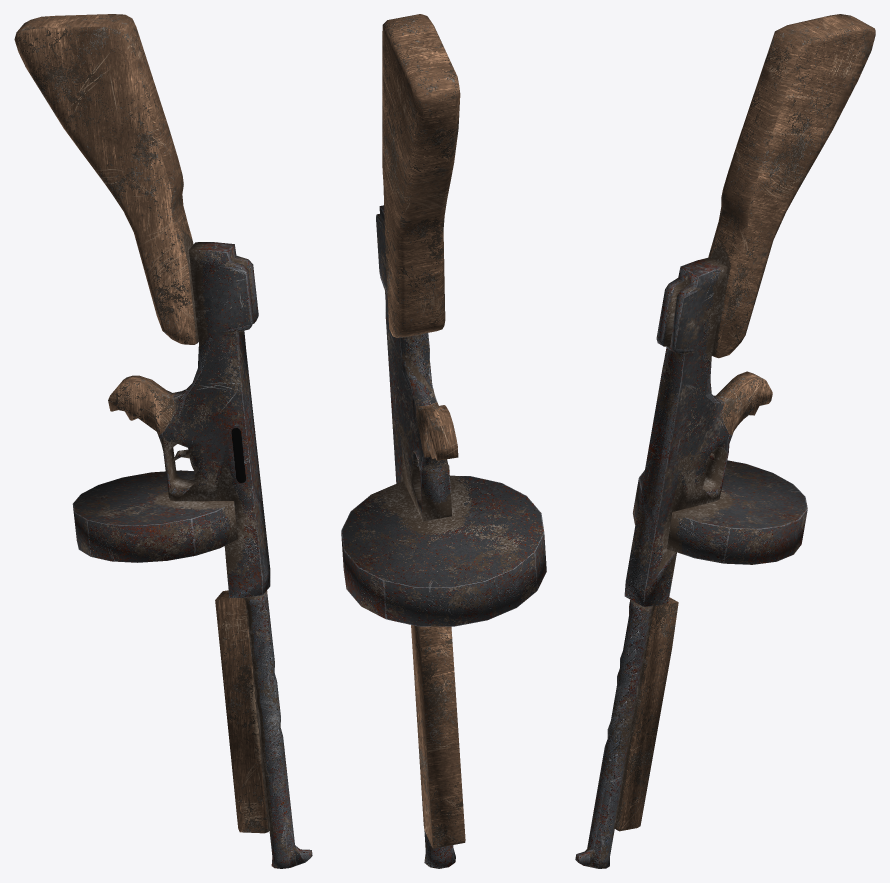
File: Anim_idle_ametralladora_objetos.0055.obj
3 renders of one model, left to right at view 1: azimuth 30°, elevation 25°; view 2: azimuth 150°, elevation 25°; view 3: azimuth 270°, elevation 25°, orthographic. The views are drawn at different scales.
Visible parts, largest first — view 1: Ametralladora1; view 2: Ametralladora1; view 3: Ametralladora1.
Part boxes in pixels (bbox=[...]): Ametralladora1: bbox=[14, 14, 312, 868]; Ametralladora1: bbox=[341, 14, 546, 868]; Ametralladora1: bbox=[575, 14, 875, 868].
Bounding box in the file's own units: 1.25 × 5.88 × 2.
